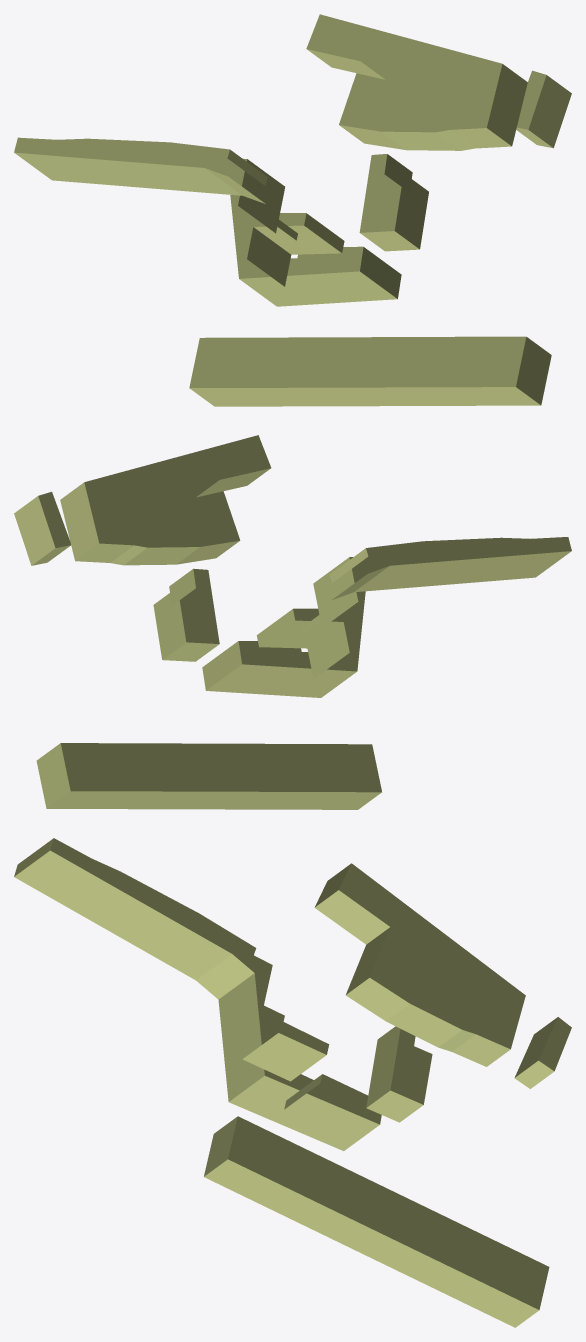
3 views of the same model, one above another, from view 1: azimuth 30°, elevation 25°; view 2: azimuth 150°, elevation 25°; view 3: azimuth 330°, elevation 25° (orthographic). The views are drawn at different scales.
Parts seen in each view (by area): view 1: 0_1_0_0_1_3_1_2; view 2: 0_1_0_0_1_3_1_2; view 3: 0_1_0_0_1_3_1_2.
Part boxes in pixels (<box>): 0_1_0_0_1_3_1_2: <box>14,14,571,406</box>; 0_1_0_0_1_3_1_2: <box>14,435,571,809</box>; 0_1_0_0_1_3_1_2: <box>14,838,571,1327</box>.
Size of the model in its own units: 73.75 by 54.97 by 10.7.
